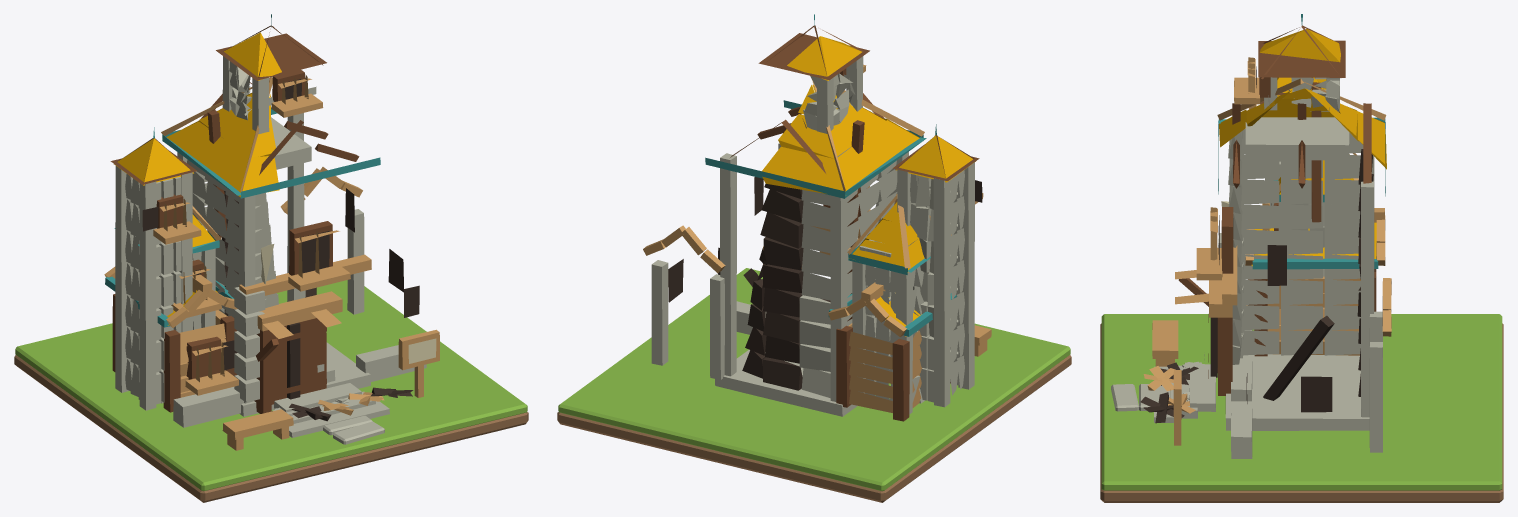
Rendered from town_hall_l07_damaged_LOD2.glb.
3 renders of one model, left to right at view 1: azimuth 30°, elevation 25°; view 2: azimuth 150°, elevation 25°; view 3: azimuth 270°, elevation 25°, orthographic. The views are drawn at different scales.
Parts seen in each view (by area): view 1: town_hall_l07_damaged_foundation.001, town_hall_l07_damaged_grass_tile.001, town_hall_l07_damaged_earth_tile.001, town_hall_l07_damaged_path_stone.005; view 2: town_hall_l07_damaged_foundation.001, town_hall_l07_damaged_grass_tile.001, town_hall_l07_damaged_earth_tile.001; view 3: town_hall_l07_damaged_foundation.001, town_hall_l07_damaged_grass_tile.001, town_hall_l07_damaged_earth_tile.001, town_hall_l07_damaged_path_stone.005.
Part boxes in pixels (x1,y1,x2,y2): town_hall_l07_damaged_foundation.001: [104, 14, 439, 450]; town_hall_l07_damaged_grass_tile.001: [15, 280, 527, 491]; town_hall_l07_damaged_earth_tile.001: [14, 355, 528, 502]; town_hall_l07_damaged_path_stone.005: [333, 421, 384, 444]; town_hall_l07_damaged_foundation.001: [643, 14, 991, 421]; town_hall_l07_damaged_grass_tile.001: [558, 268, 1070, 491]; town_hall_l07_damaged_earth_tile.001: [557, 355, 1071, 502]; town_hall_l07_damaged_foundation.001: [1140, 14, 1391, 458]; town_hall_l07_damaged_grass_tile.001: [1101, 314, 1502, 490]; town_hall_l07_damaged_earth_tile.001: [1100, 323, 1503, 502]; town_hall_l07_damaged_path_stone.005: [1111, 384, 1138, 411].
Size of the model in its own units: 3.6 by 4 by 3.6.
